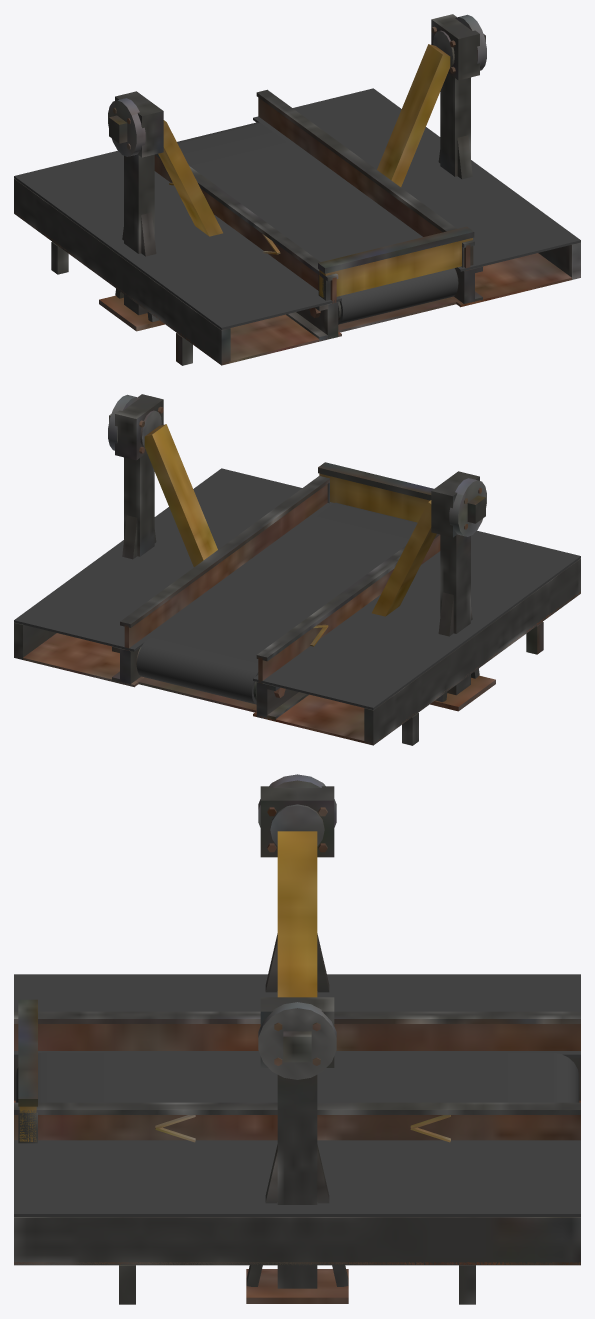
The model's file is feConveyor.glb.
3 renders of one model, top to bottom at view 1: azimuth 30°, elevation 25°; view 2: azimuth 150°, elevation 25°; view 3: azimuth 270°, elevation 25°, orthographic. The views are drawn at different scales.
Visible parts, largest first — view 1: FeBeltFill_R, FeBeltBed, FeBeltFill_L, FeBeltDrive_L, FeBeltDrive_R, FeRail_L, FeBeltEnd, FeRail_R, FeSpin_BeltDrive_R, FeSpin_BeltDrive_L; view 2: FeBeltFill_R, FeBeltBed, FeBeltFill_L, FeBeltDrive_L, FeBeltDrive_R, FeRail_L, FeRail_R, FeBeltEnd, FeSpin_BeltDrive_R, FeSpin_BeltDrive_L; view 3: FeBeltFill_L, FeBeltBed, FeBeltFill_R, FeRail_L, FeRail_R, FeBeltDrive_R, FeBeltDrive_L, FeSpin_BeltDrive_L, FeBeltEnd, FeSpin_BeltDrive_R.
Part boxes in pixels (x1,y1,x2,y2): FeBeltFill_R: (14, 150, 341, 365); FeBeltBed: (177, 122, 482, 341); FeBeltFill_L: (253, 88, 580, 307); FeBeltDrive_L: (377, 14, 479, 186); FeBeltDrive_R: (99, 91, 222, 331); FeRail_L: (256, 89, 474, 270); FeBeltEnd: (318, 226, 474, 321); FeRail_R: (154, 154, 338, 303); FeSpin_BeltDrive_R: (108, 98, 145, 156); FeSpin_BeltDrive_L: (455, 14, 486, 70); FeBeltFill_R: (253, 530, 580, 745); FeBeltBed: (112, 502, 417, 721); FeBeltFill_L: (14, 468, 333, 687); FeBeltDrive_L: (115, 394, 217, 566); FeBeltDrive_R: (372, 471, 495, 711); FeRail_L: (120, 476, 329, 650); FeRail_R: (256, 534, 440, 683); FeBeltEnd: (318, 462, 433, 522); FeSpin_BeltDrive_R: (449, 478, 486, 536); FeSpin_BeltDrive_L: (108, 394, 139, 450); FeBeltFill_L: (14, 1140, 580, 1304); FeBeltBed: (14, 1052, 580, 1102); FeBeltFill_R: (14, 974, 580, 1102); FeRail_L: (14, 1102, 580, 1142); FeRail_R: (14, 1011, 580, 1050); FeBeltDrive_R: (260, 786, 334, 997); FeBeltDrive_L: (246, 997, 348, 1303); FeSpin_BeltDrive_L: (258, 1002, 336, 1079); FeBeltEnd: (18, 999, 37, 1143); FeSpin_BeltDrive_R: (258, 774, 336, 827).
Size of the model in its own units: 1.02 by 0.57 by 1.
Materials: 2 (1 with a texture image).
